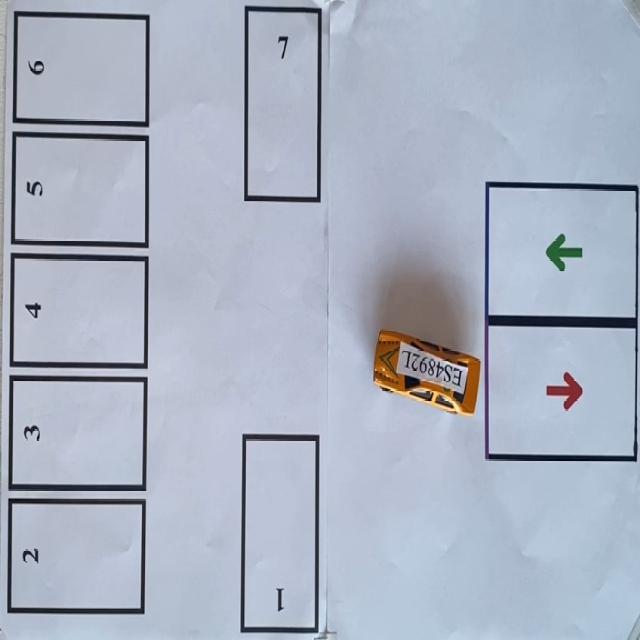car: (374, 330, 479, 414)
